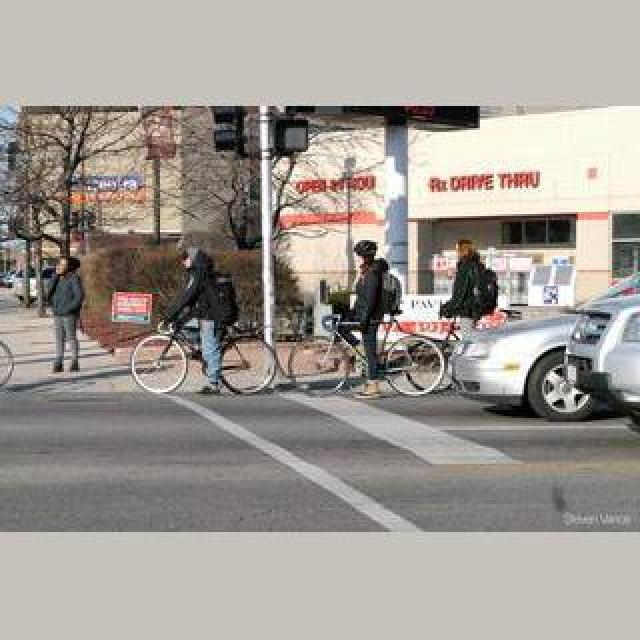Bus-Bike: (452, 284, 640, 418), (552, 282, 640, 424)
MC-Bike: (160, 240, 240, 392), (346, 240, 404, 396), (438, 238, 498, 328), (46, 256, 86, 374)
Person: (290, 308, 448, 400), (128, 314, 278, 396)
